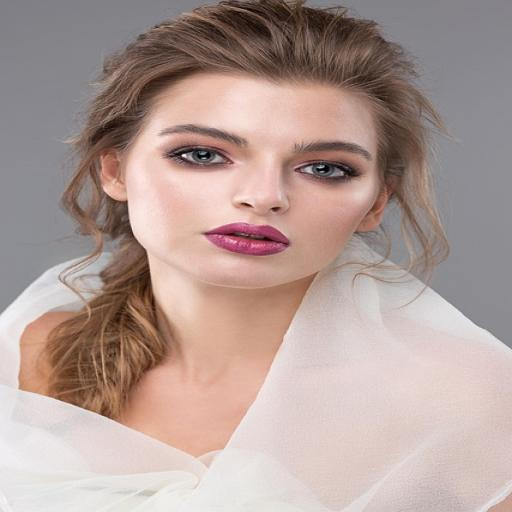lipstick: (206, 222, 290, 255)
